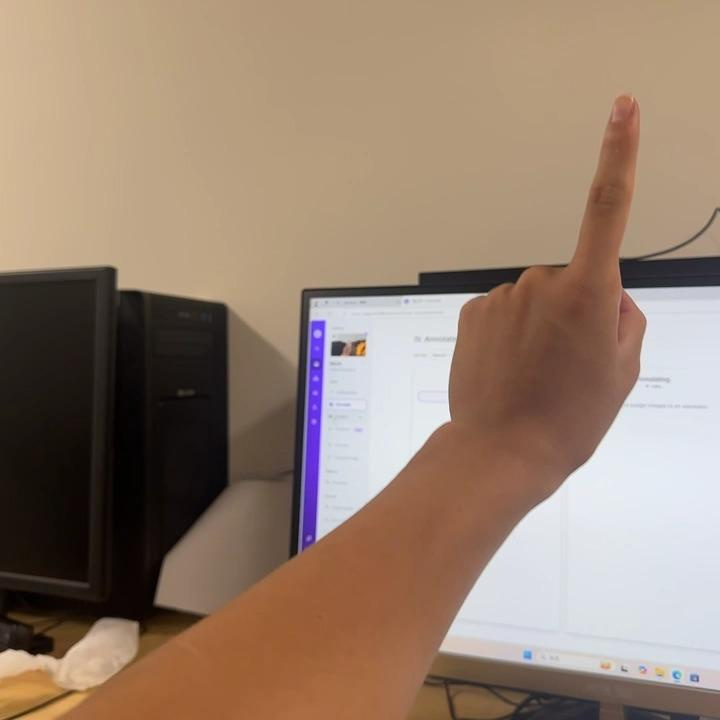without_gloves: (450, 48, 701, 388)
